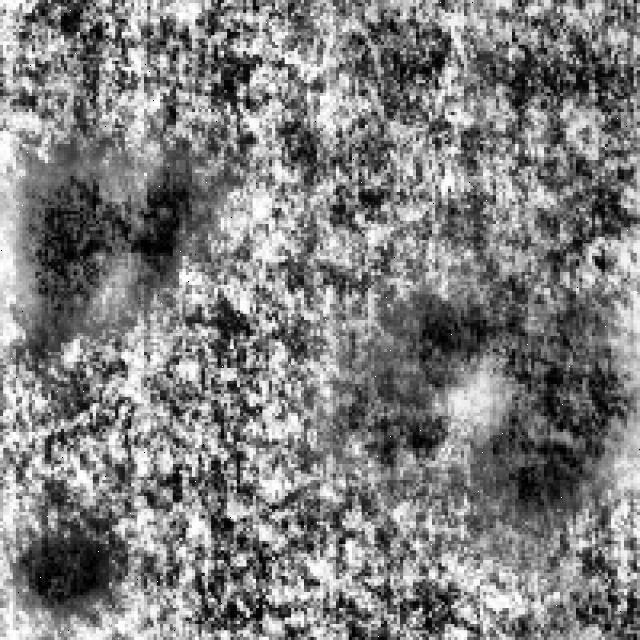Scratches: (480, 266, 637, 528), (22, 141, 218, 342), (378, 284, 512, 454), (12, 522, 118, 618)
